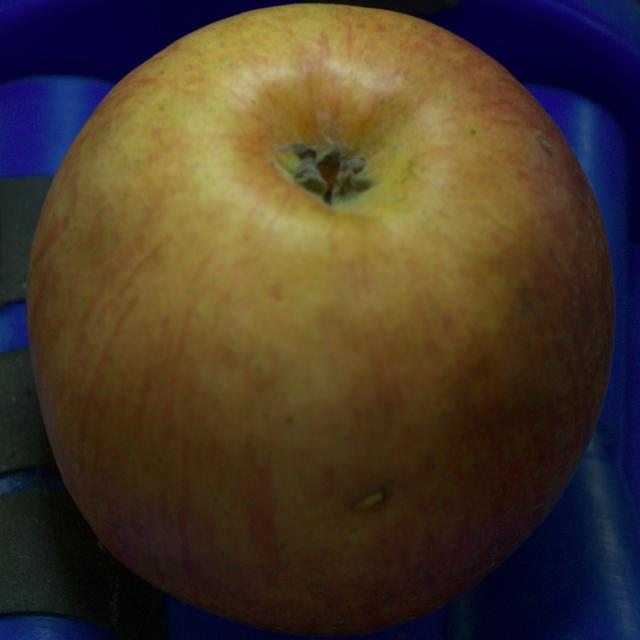apple: (26, 4, 614, 635)
pest: (352, 489, 385, 511), (536, 131, 551, 154)
